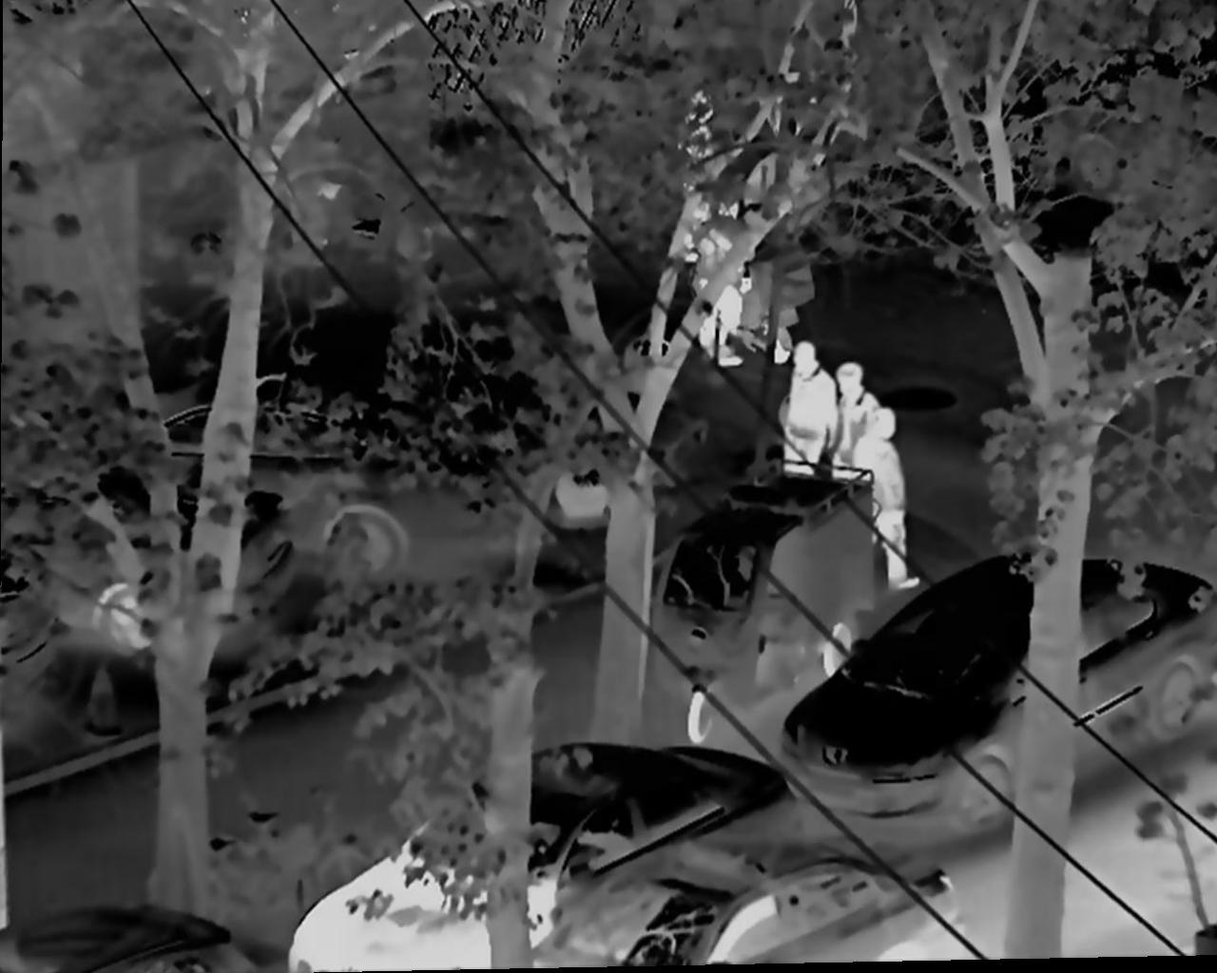person: (768, 340, 839, 519), (856, 402, 918, 600), (832, 354, 886, 506), (697, 202, 745, 373)
